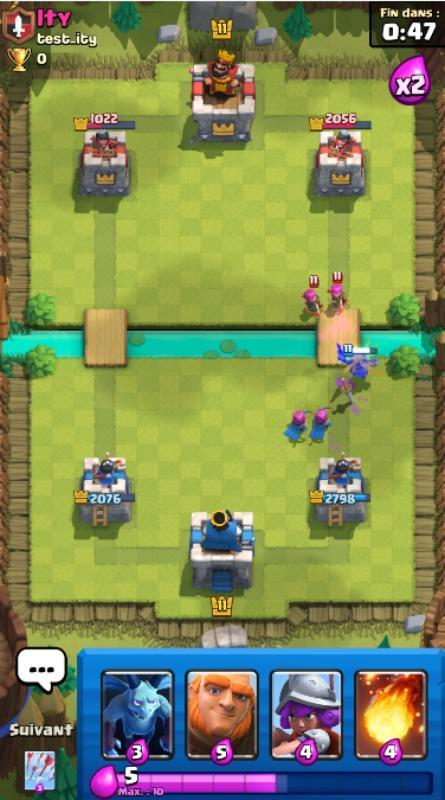enemy_archers: (297, 275, 325, 316), (325, 272, 350, 310)
player_archers: (280, 404, 310, 444), (307, 403, 336, 444)
player_mini_pekka: (329, 340, 381, 374)
